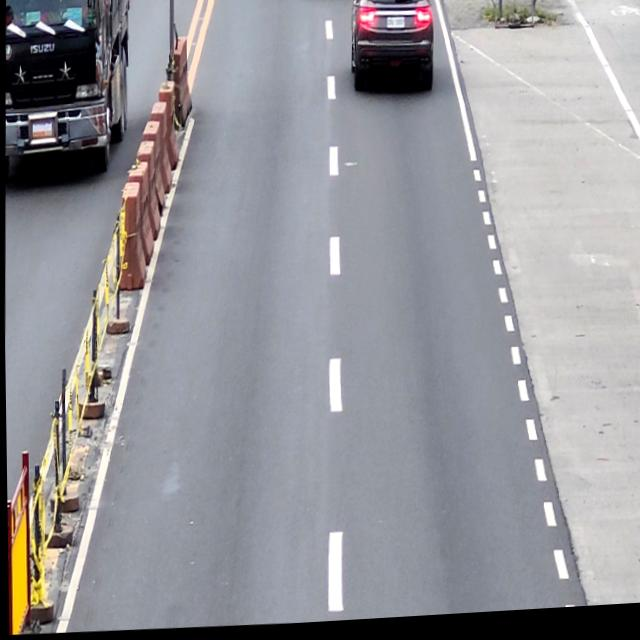Car: (343, 0, 438, 96)
License-Plate: (385, 20, 404, 35)
